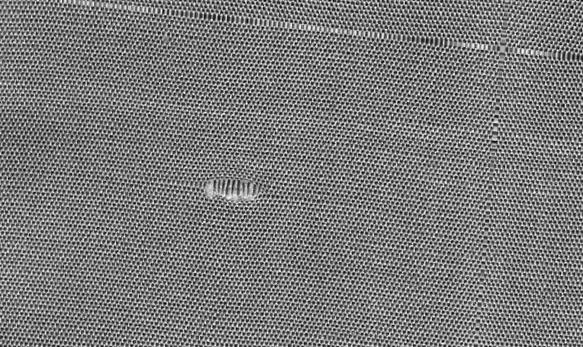slub: (201, 176, 274, 210)
